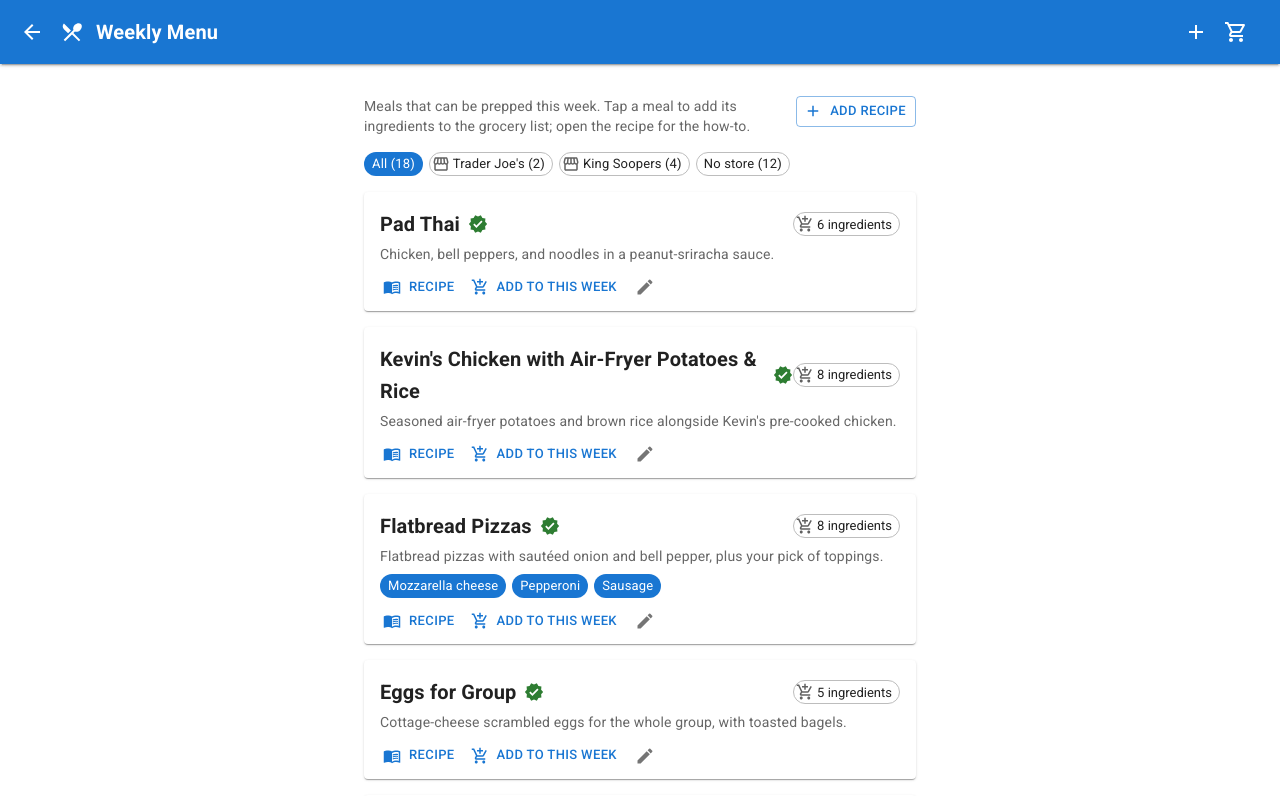
Test: recipe dialog › can add the ingredients from inside the recipe, then closes
Click the button with aria-label "pad thai recipe": (420, 287) [380,272,460,303]
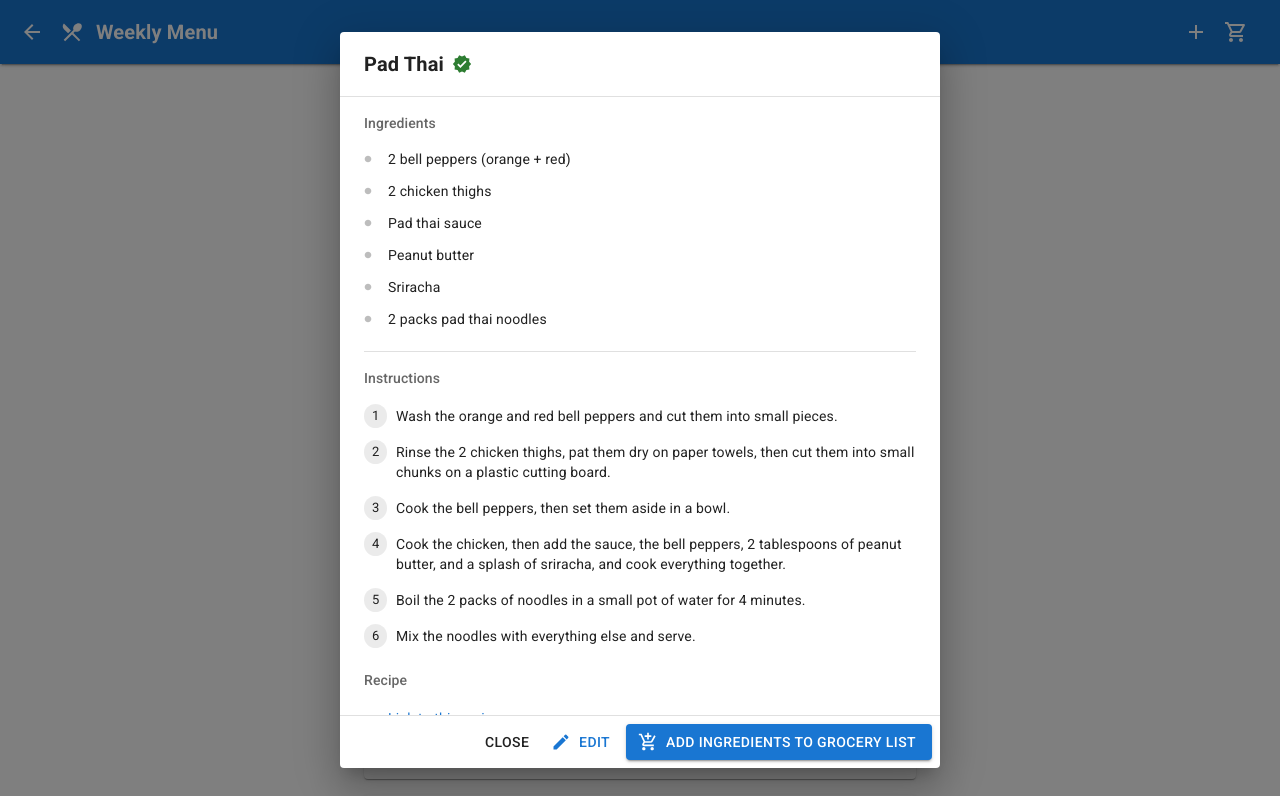
Click the button "Add ingredients to grocery list": (779, 742) [626,724,932,760]
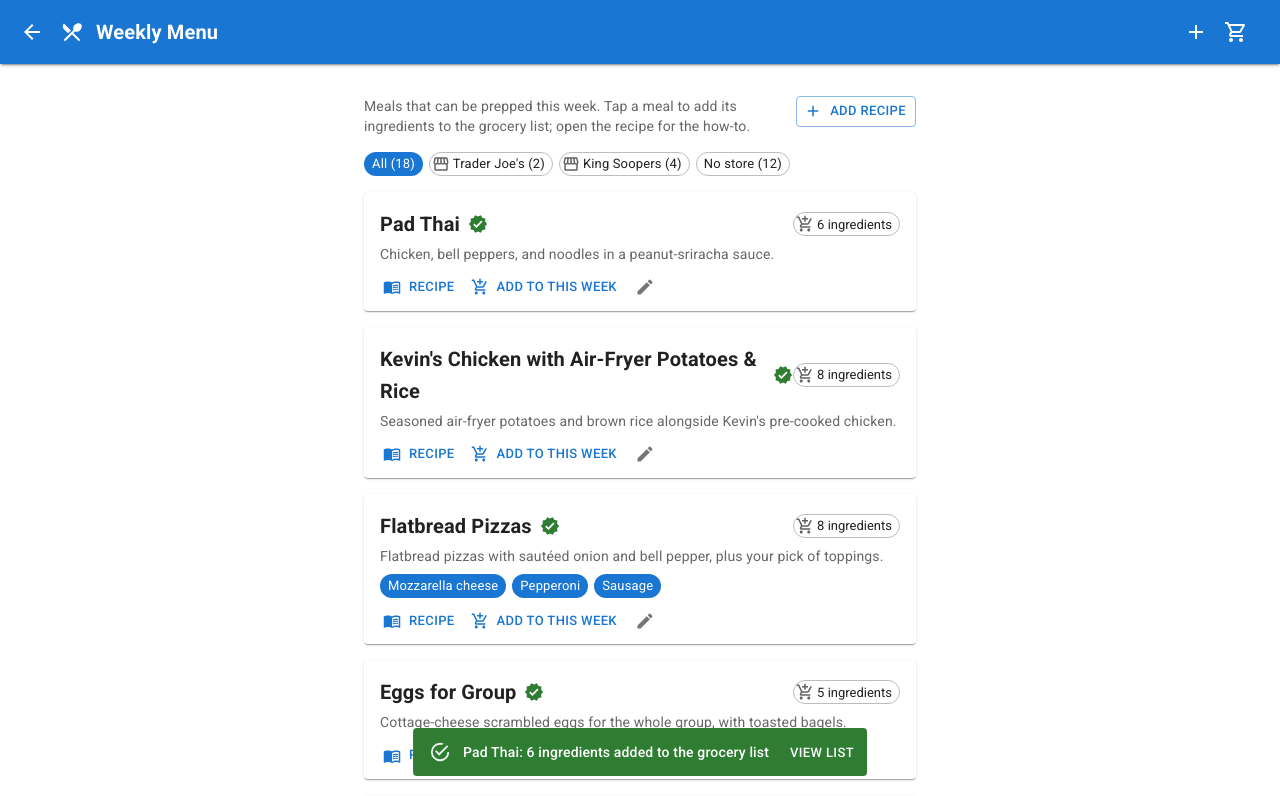
Expected: the dialog is gone
